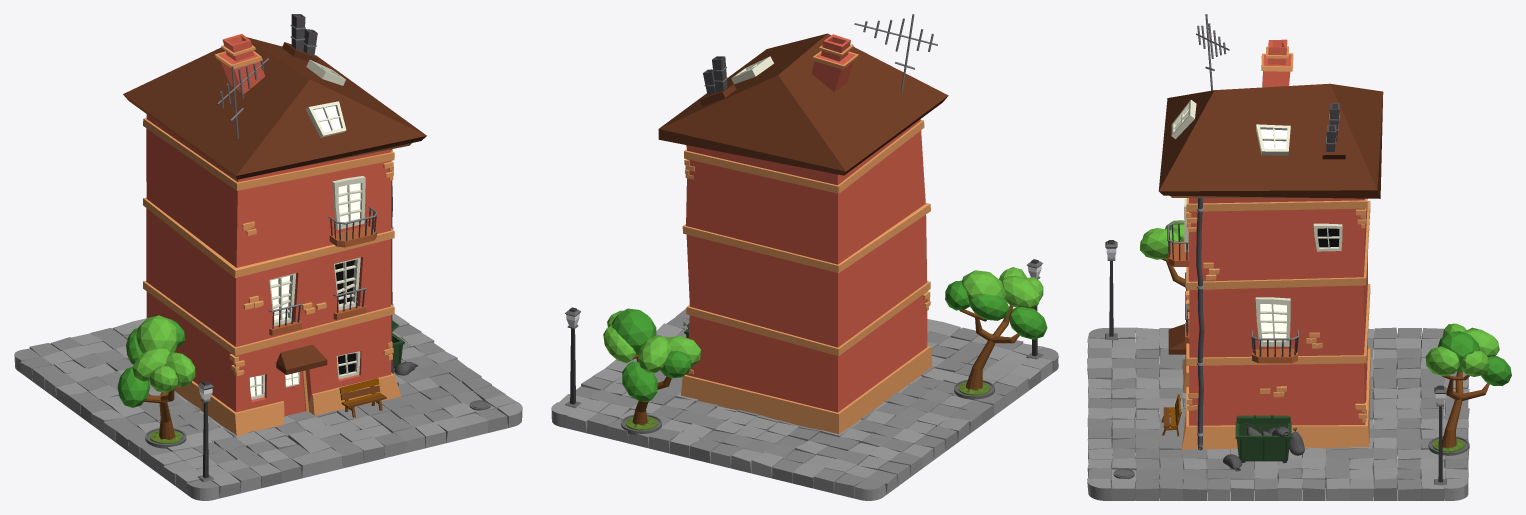
The model's file is 3DAHouse.fbx.
The picture shows the model from 3 angles, left to right: view 1: azimuth 30°, elevation 25°; view 2: azimuth 150°, elevation 25°; view 3: azimuth 270°, elevation 25°; orthographic projection.
Parts seen in each view (by area): view 1: Haus, Plane, Dach, Baum.001, Cube.038, Cube.063, Cube.028, Cube.044, Cube.015, Cube.002, Cube.065, Bank (+7 smaller); view 2: Haus, Plane, Dach, Baum.001, Baum, Cube.038, Cube.028, Cylinder.010, Lampe; view 3: Haus, Plane, Dach, Baum, Tonne, Cube.035, Cylinder.004, Cube.038, Baum.001, Cube.028, Cube.046, Cube.049 (+8 smaller).
Part boxes in pixels (box(x1,y1,x2,y2)): Haus: box(143, 114, 400, 436); Plane: box(14, 313, 522, 500); Dach: box(123, 37, 426, 179); Baum.001: box(117, 315, 195, 448); Cube.038: box(214, 34, 265, 94); Cube.063: box(332, 176, 365, 229); Cube.028: box(282, 14, 318, 62); Cube.044: box(328, 206, 377, 247); Cube.015: box(276, 344, 327, 374); Cube.002: box(334, 257, 360, 310); Cube.065: box(269, 273, 296, 326); Bank: box(339, 378, 386, 417); Haus: box(681, 119, 932, 434); Plane: box(551, 308, 1058, 500); Dach: box(658, 33, 948, 175); Baum.001: box(945, 267, 1047, 399); Baum: box(603, 308, 700, 435); Cube.038: box(811, 34, 858, 92); Cube.028: box(699, 56, 736, 106); Cylinder.010: box(854, 14, 937, 91); Lampe: box(565, 307, 580, 408); Haus: box(1181, 198, 1370, 449); Plane: box(1087, 327, 1469, 500); Dach: box(1158, 83, 1383, 198); Baum: box(1425, 323, 1511, 456); Tonne: box(1223, 415, 1304, 471); Cube.035: box(1255, 297, 1290, 346); Cylinder.004: box(1196, 198, 1204, 450); Cube.038: box(1261, 39, 1293, 87); Baum.001: box(1140, 220, 1184, 286); Cube.028: box(1322, 103, 1345, 159); Cube.046: box(1251, 329, 1298, 363); Cube.049: box(1256, 124, 1290, 155).
Size of the model in its own units: 1389 by 1373 by 1425.
